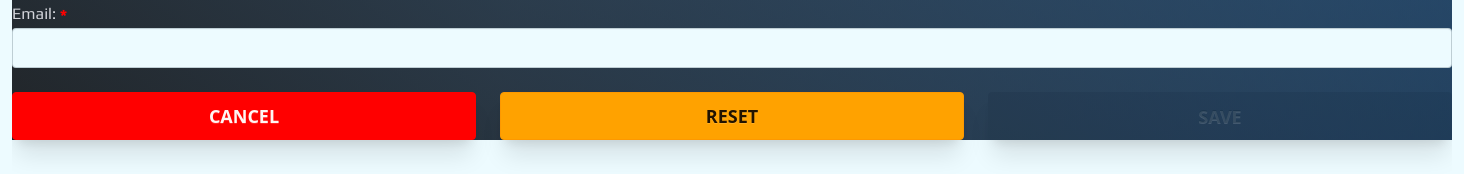
Test case: CreateRosterPersonnelForm › shows a format error when an invalid email is entered
This screenshot has width=1464, height=174.
Type "not-an-email" into the field at (732, 48), box [12,28,1452,68]
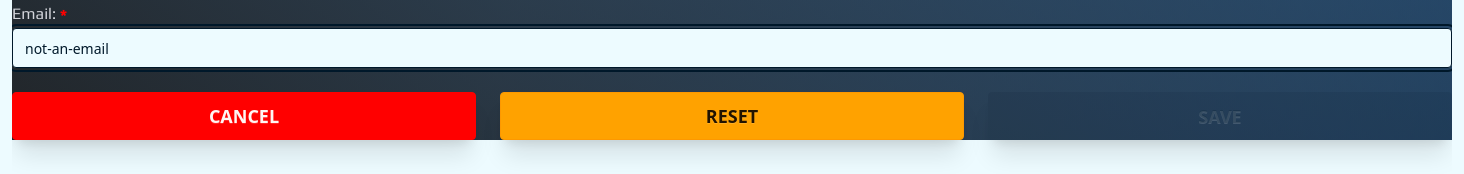
Press Tab
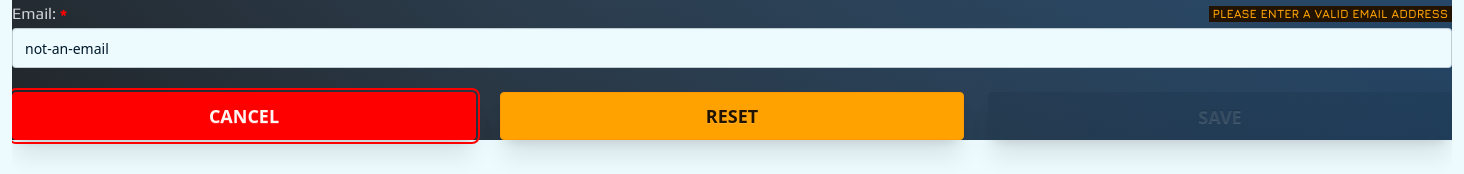
expect the text "Please enter a valid email address" is shown: met, box [1209,6,1452,22]
